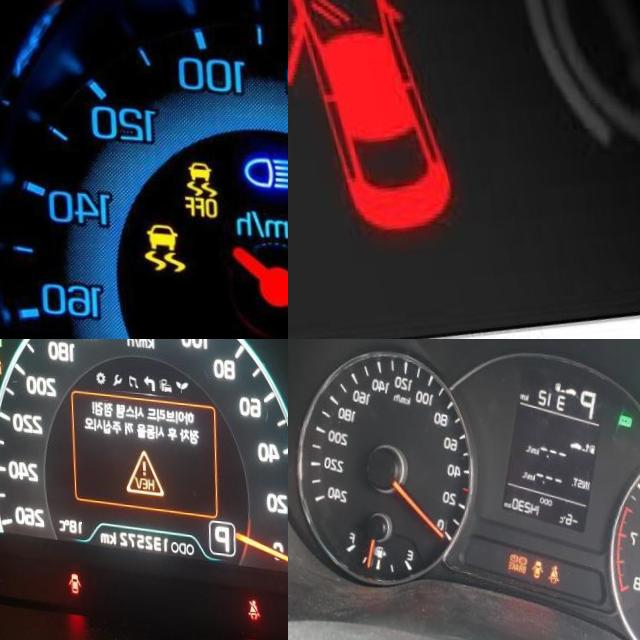Doors: (527, 555, 542, 575)
